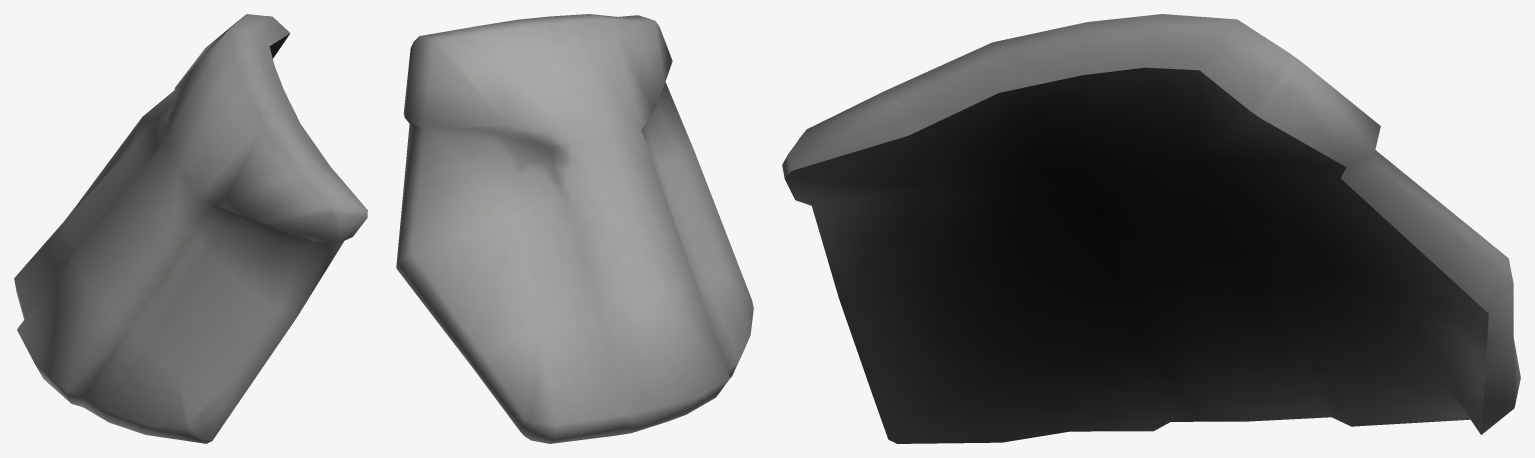
The model's file is Stormtrooper_HandL.fbx.
3 renders of one model, left to right at view 1: azimuth 30°, elevation 25°; view 2: azimuth 150°, elevation 25°; view 3: azimuth 270°, elevation 25°, orthographic. The views are drawn at different scales.
Parts seen in each view (by area): view 1: HandL; view 2: HandL; view 3: HandL.
Boxes of the visible parts, x1,y1,x2,y2 form: HandL: (14,14,367,443); HandL: (396,14,753,443); HandL: (782,14,1520,443).
Size of the model in its own units: 0.0732 by 0.0865 by 0.1064.
